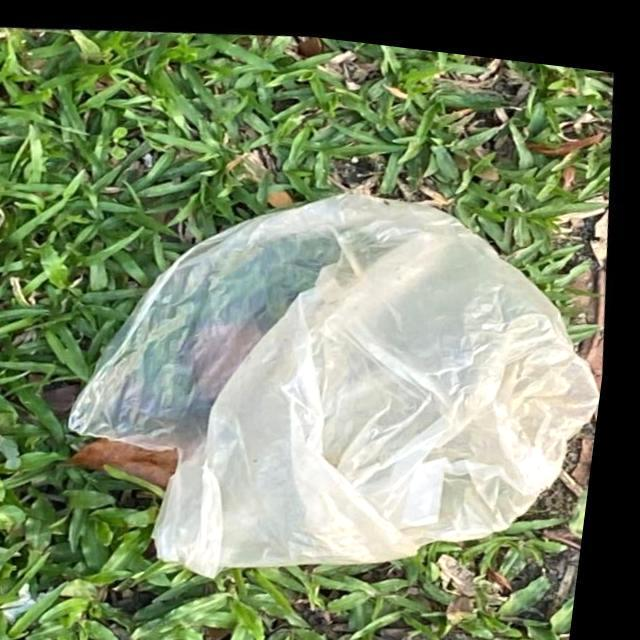polythene: (141, 208, 564, 534)
